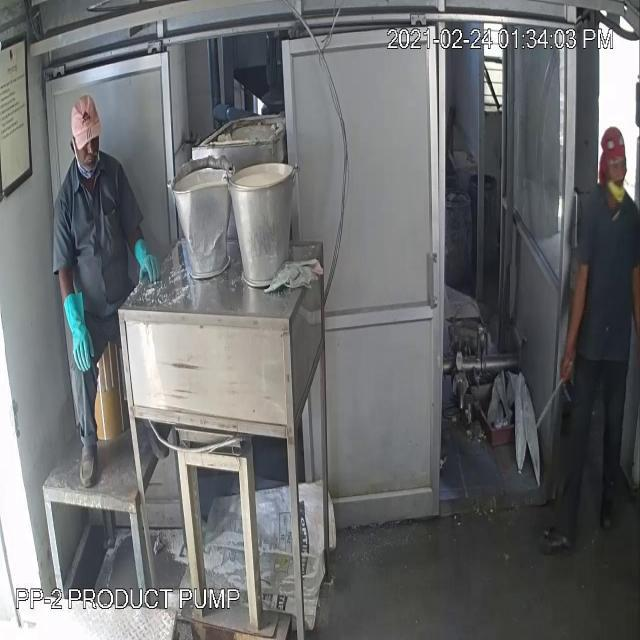no hat: (66, 84, 106, 158), (596, 118, 630, 180)
